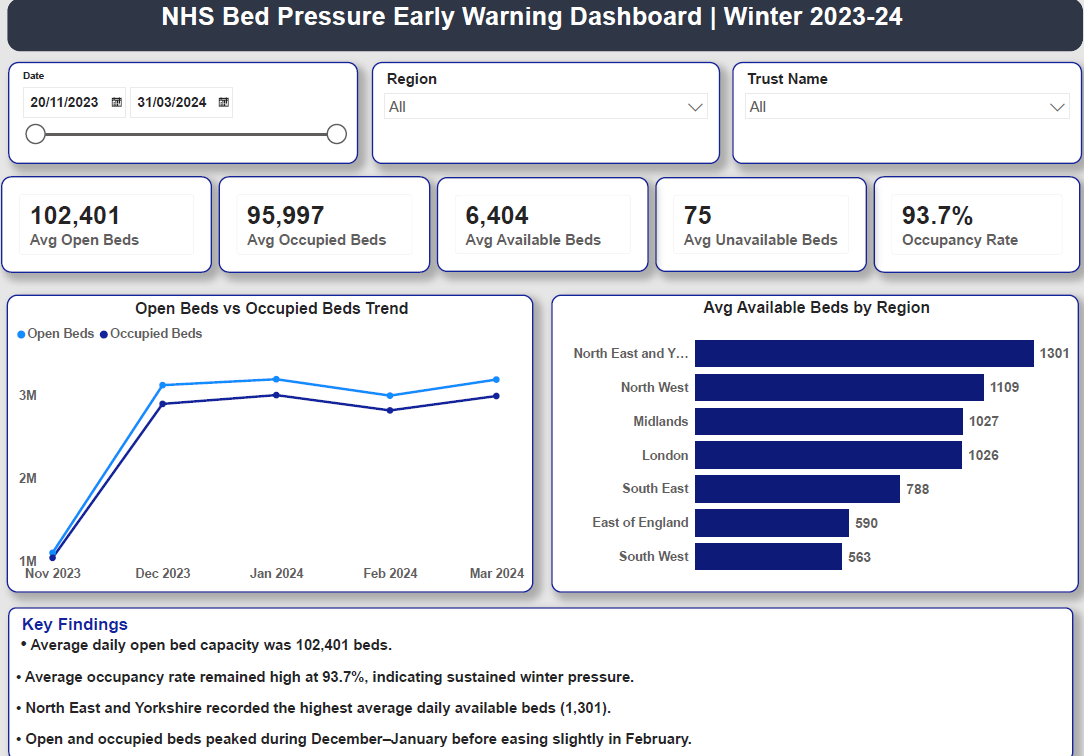

Layout of this report page (visuals, bound fields, positions):
{"tool":"powerbi","page":{"name":"Overview","canvas":[1400,980],"ordinal":0},"visuals":[{"type":"cardVisual","fields":{"Data":["Calculated Measures.Occupancy Rate"]},"box":[1118.7,228.2,261.4,121.8],"z":0},{"type":"cardVisual","fields":{"Data":["Calculated Measures.Avg Daily Open Beds"]},"box":[19.9,228.2,265.8,121.8],"z":1000},{"type":"cardVisual","fields":{"Data":["Calculated Measures.Avg Daily Occupied Beds"]},"box":[293.7,228.2,267,121.8],"z":2000},{"type":"cardVisual","fields":{"Data":["Calculated Measures.Avg Daily Unavailable Beds"]},"box":[843.7,229.2,267,120],"z":3000},{"type":"cardVisual","fields":{"Data":["Calculated Measures.Avg Daily Available Beds"]},"box":[568.7,229.2,267,120],"z":4000},{"type":"lineChart","title":"Open Beds vs Occupied Beds Trend","fields":{"Y":["Calculated Measures.Open Beds","Calculated Measures.Occupied Beds"],"Category":["fct_Hospital_Beds.Date.Variation.Date Hierarchy.Year","fct_Hospital_Beds.Date.Variation.Date Hierarchy.Month"]},"box":[26.6,376.6,664,376.6],"z":5000},{"type":"clusteredBarChart","fields":{"Category":["fct_Hospital_Beds.Region"],"Y":["Calculated Measures.Avg Daily Available Beds"]},"box":[713.3,376.6,664.6,376.6],"z":6000},{"type":"shape","box":[28.1,4.3,1355.3,67.1],"z":7000},{"type":"textbox","box":[88.6,4.4,1200.6,66.5],"z":8000},{"type":"slicer","fields":{"Values":["fct_Hospital_Beds.Date"]},"box":[28.8,84.2,440.8,128.5],"z":9000},{"type":"slicer","fields":{"Values":["fct_Hospital_Beds.Region"]},"box":[487.3,84.2,438.6,128.5],"z":10000},{"type":"slicer","fields":{"Values":["fct_Hospital_Beds.Trust Name"]},"box":[941.5,84.2,440.8,128.5],"z":11000},{"type":"textbox","box":[28.8,770.9,1342.4,192.7],"z":12000}]}

Visuals, with their boxes in screenshot pixels (x1, y1, x2, y2), scaled from the page's 1400x980 canvas onto the 1084x756 screenshot:
cardVisual - Calculated Measures.Occupancy Rate: 866:176:1069:270
cardVisual - Calculated Measures.Avg Daily Open Beds: 15:176:221:270
cardVisual - Calculated Measures.Avg Daily Occupied Beds: 227:176:434:270
cardVisual - Calculated Measures.Avg Daily Unavailable Beds: 653:177:860:269
cardVisual - Calculated Measures.Avg Daily Available Beds: 440:177:647:269
"Open Beds vs Occupied Beds Trend" lineChart: 21:291:535:581
clusteredBarChart - fct_Hospital_Beds.Region x Calculated Measures.Avg Daily Available Beds: 552:291:1067:581
shape: 22:3:1071:55
textbox: 69:3:998:55
slicer - fct_Hospital_Beds.Date: 22:65:364:164
slicer - fct_Hospital_Beds.Region: 377:65:717:164
slicer - fct_Hospital_Beds.Trust Name: 729:65:1070:164
textbox: 22:595:1062:743
